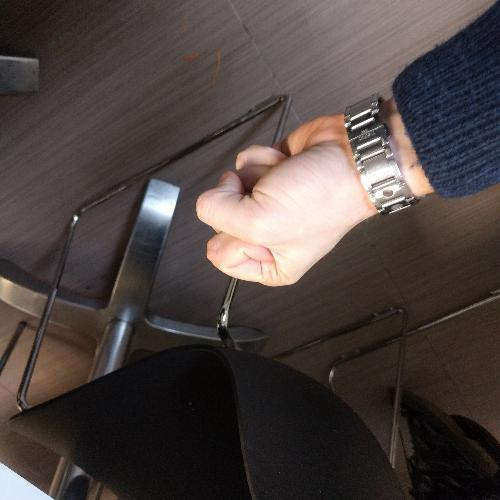rock: (190, 110, 375, 295)
